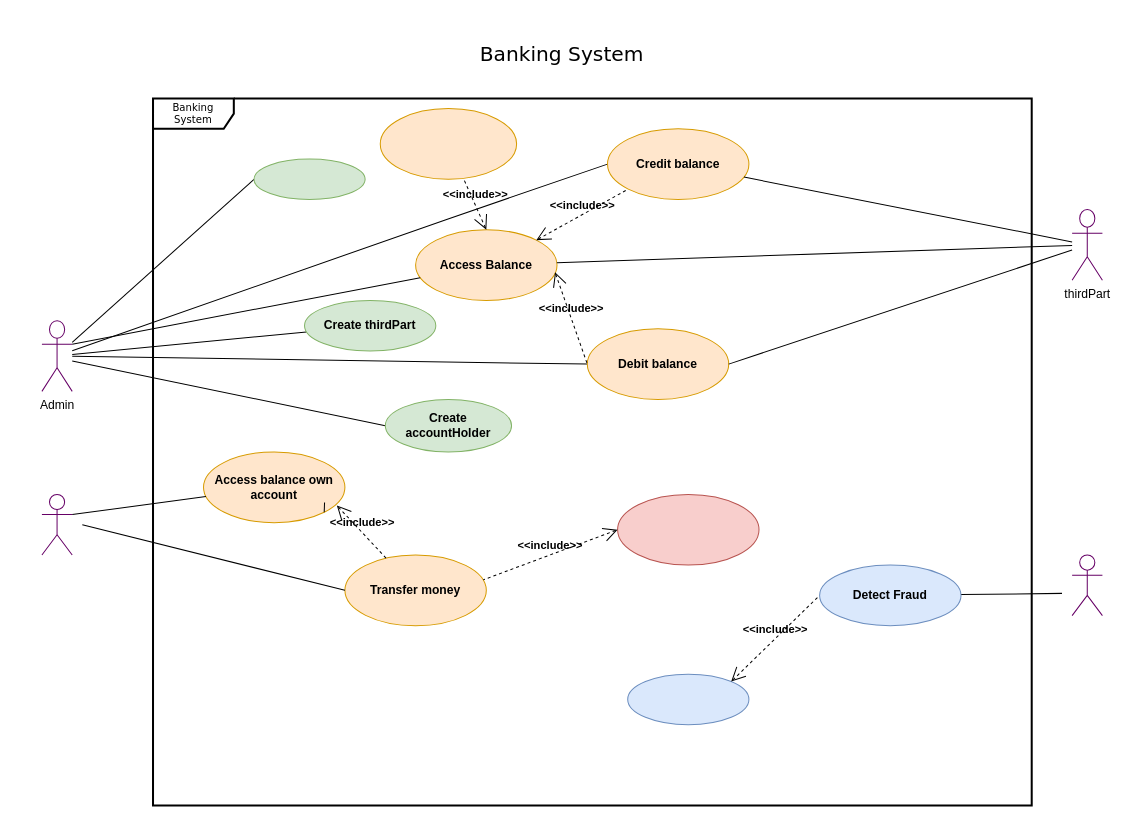
This 1127x823 diagram has some shape labels left out. Here are the shapes that lost their labels. From the top down, the centre of each, then its label:
At (448,143): "Check interest and requirements".
At (309,178): "Change Status to Active".
At (56,524): "AccountHolder".
At (688,529): "Check sufficient funds".
At (1086,585): "System".
At (688,699): "Freeze account".
